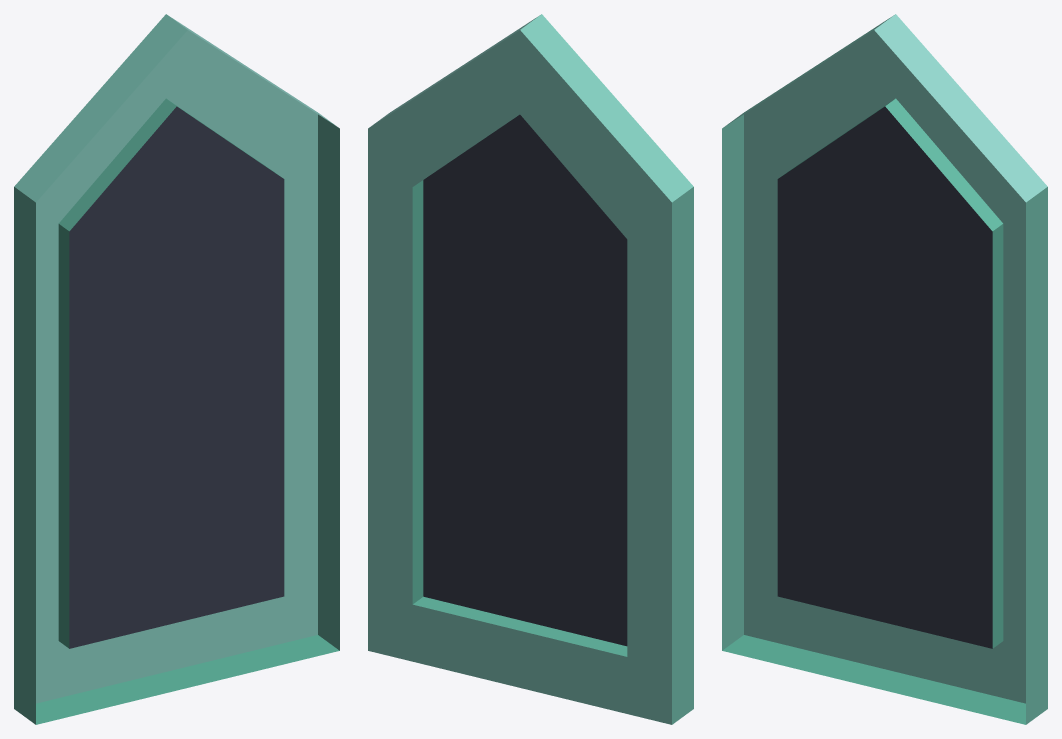
Rendered from squidgame_props_platform_decoration2_blue.fbx.
3 renders of one model, left to right at view 1: azimuth 30°, elevation 25°; view 2: azimuth 150°, elevation 25°; view 3: azimuth 330°, elevation 25°, orthographic.
Visible parts, largest first — view 1: squidgame_props_platform_decoration2_blue; view 2: squidgame_props_platform_decoration2_blue; view 3: squidgame_props_platform_decoration2_blue.
Part boxes in pixels (x1,y1,x2,y2): squidgame_props_platform_decoration2_blue: (14, 14, 339, 724); squidgame_props_platform_decoration2_blue: (368, 14, 693, 724); squidgame_props_platform_decoration2_blue: (722, 14, 1047, 724).
Size of the model in its own units: 0.8875 by 1.84 by 0.1104.
